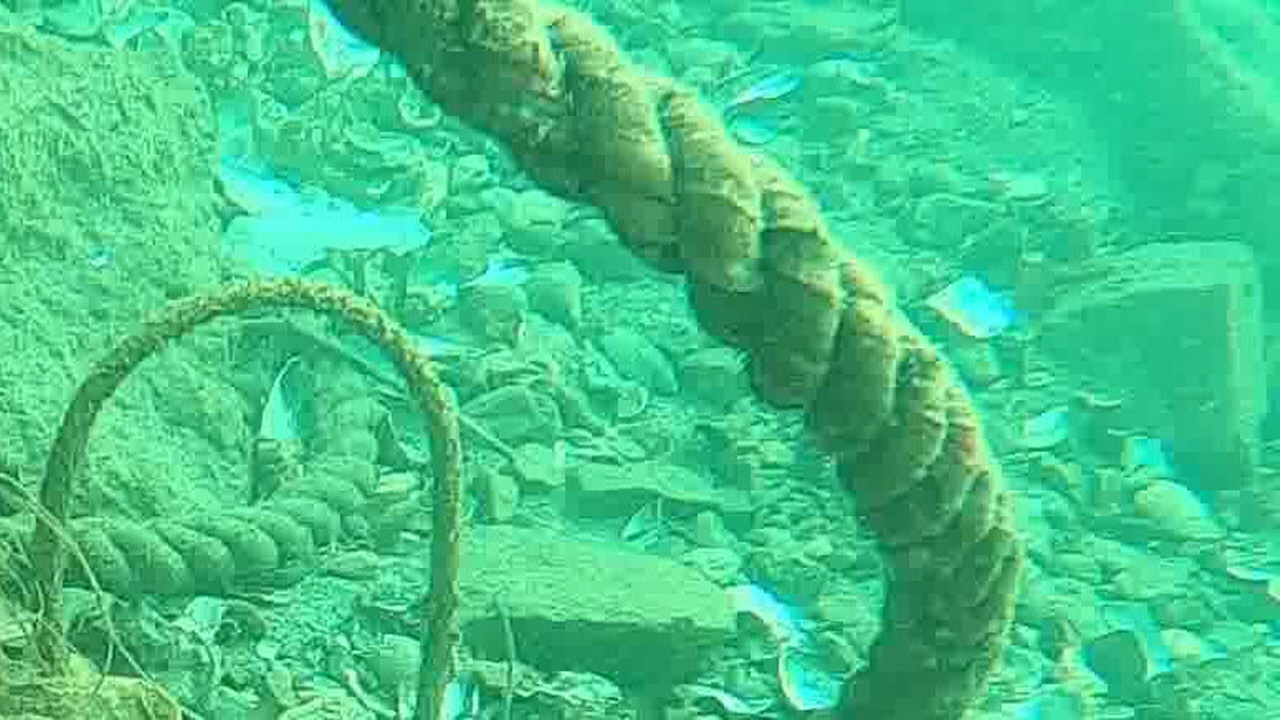rope: (29, 273, 465, 720), (61, 358, 383, 603)
